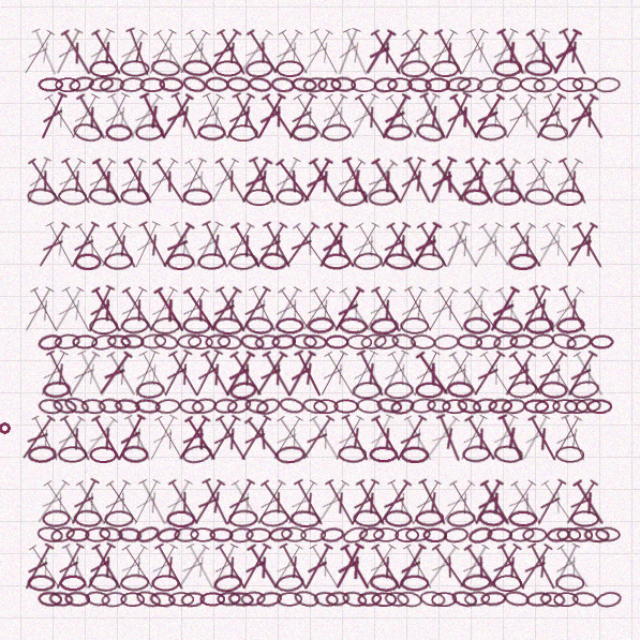chain: (397, 137, 427, 159), (180, 437, 210, 458), (78, 137, 107, 158), (542, 377, 571, 398), (325, 198, 355, 218), (209, 558, 238, 578), (267, 558, 296, 578), (69, 392, 96, 413), (224, 378, 252, 398), (151, 78, 180, 97), (93, 198, 122, 217), (470, 318, 499, 337), (484, 378, 513, 397), (93, 558, 122, 577), (136, 512, 162, 533), (329, 513, 356, 533), (136, 573, 163, 593), (239, 318, 267, 337), (529, 318, 557, 337), (471, 438, 499, 457), (253, 498, 281, 517), (355, 558, 383, 577), (354, 199, 383, 217), (209, 319, 238, 337), (339, 379, 368, 397), (267, 439, 296, 457), (281, 499, 310, 517), (248, 393, 274, 413), (446, 513, 472, 533), (253, 258, 280, 277), (456, 498, 483, 517), (239, 79, 267, 97), (384, 79, 412, 97), (224, 259, 252, 277), (369, 259, 397, 277), (398, 259, 426, 277), (152, 319, 180, 337), (326, 319, 354, 337), (355, 319, 383, 337), (369, 379, 397, 397), (427, 499, 455, 517), (74, 93, 100, 112), (153, 333, 179, 352), (524, 333, 550, 352), (221, 393, 247, 412), (270, 393, 296, 412), (284, 573, 310, 592), (431, 573, 457, 592), (442, 199, 469, 217), (311, 139, 339, 156), (456, 139, 484, 156), (36, 199, 64, 216), (123, 199, 151, 216), (181, 199, 209, 216), (500, 199, 528, 216), (340, 259, 368, 276), (123, 319, 151, 336), (500, 319, 528, 336), (50, 379, 78, 396), (137, 379, 165, 396), (36, 439, 64, 456), (79, 499, 107, 516), (224, 499, 252, 516), (180, 93, 205, 112), (375, 333, 400, 352), (436, 393, 461, 412), (57, 513, 82, 532), (455, 94, 481, 112), (95, 334, 121, 352), (538, 334, 564, 352), (292, 394, 318, 412), (249, 574, 275, 592), (380, 574, 406, 592), (566, 574, 592, 592), (181, 79, 208, 96), (471, 79, 498, 96), (500, 79, 527, 96), (137, 139, 164, 156), (195, 139, 222, 156), (282, 139, 309, 156), (369, 139, 396, 156), (514, 139, 541, 156), (65, 199, 92, 216), (268, 199, 295, 216), (471, 199, 498, 216), (108, 259, 135, 276), (181, 319, 208, 336), (297, 319, 324, 336), (427, 379, 454, 396), (514, 379, 541, 396), (326, 439, 353, 456), (442, 439, 469, 456), (50, 499, 77, 516), (340, 499, 367, 516), (369, 499, 396, 516), (398, 499, 425, 516), (123, 559, 150, 576), (442, 559, 469, 576), (529, 559, 556, 576), (241, 94, 266, 112), (45, 334, 70, 352), (234, 334, 259, 352), (470, 334, 495, 352), (59, 394, 84, 412), (238, 394, 263, 412), (374, 394, 399, 412), (156, 514, 181, 532), (329, 574, 354, 592), (123, 80, 151, 96), (224, 140, 252, 156), (108, 500, 136, 516), (473, 94, 499, 111), (109, 139, 135, 156), (443, 319, 469, 336), (361, 394, 387, 411), (124, 439, 150, 456), (480, 574, 506, 591), (94, 80, 121, 96), (210, 80, 237, 96), (268, 80, 295, 96), (413, 80, 440, 96), (239, 200, 266, 216), (529, 200, 556, 216), (166, 260, 193, 276), (195, 260, 222, 276), (311, 260, 338, 276), (485, 260, 512, 276), (94, 320, 121, 336), (268, 320, 295, 336), (384, 320, 411, 336), (398, 380, 425, 396), (65, 440, 92, 456), (94, 440, 121, 456), (355, 440, 382, 456), (384, 440, 411, 456), (529, 440, 556, 456), (166, 500, 193, 516), (485, 500, 512, 516), (543, 500, 570, 516), (36, 560, 63, 576), (152, 560, 179, 576), (384, 560, 411, 576), (471, 560, 498, 576), (93, 94, 118, 111), (426, 94, 451, 111), (61, 334, 86, 351), (347, 334, 372, 351), (359, 334, 384, 351), (504, 334, 529, 351), (189, 394, 214, 411), (393, 394, 418, 411), (451, 394, 476, 411), (45, 514, 70, 531), (102, 514, 127, 531), (345, 514, 370, 531), (485, 514, 510, 531), (402, 574, 427, 591), (80, 260, 106, 276), (66, 560, 92, 576), (261, 514, 285, 531), (90, 574, 114, 591), (103, 95, 128, 111), (122, 95, 147, 111), (282, 95, 307, 111), (437, 95, 462, 111), (495, 95, 520, 111), (508, 95, 533, 111), (544, 95, 569, 111), (565, 95, 590, 111), (248, 335, 273, 351), (393, 335, 418, 351), (415, 335, 440, 351), (454, 335, 479, 351), (117, 395, 142, 411), (136, 395, 161, 411), (155, 395, 180, 411), (177, 395, 202, 411), (509, 395, 534, 411), (424, 515, 449, 531), (555, 515, 580, 531), (105, 575, 130, 591), (150, 575, 175, 591), (223, 575, 248, 591), (501, 575, 526, 591), (514, 575, 539, 591), (544, 575, 569, 591), (263, 95, 287, 111), (293, 95, 317, 111), (359, 95, 383, 111), (390, 95, 414, 111), (110, 335, 134, 351), (213, 335, 237, 351), (293, 335, 317, 351), (46, 395, 70, 411), (86, 395, 110, 411), (478, 395, 502, 411), (120, 515, 144, 531), (224, 515, 248, 531), (309, 515, 333, 531), (520, 515, 544, 531), (56, 575, 80, 591), (179, 575, 203, 591), (303, 575, 327, 591), (369, 575, 393, 591), (343, 395, 368, 410), (547, 395, 572, 410), (319, 95, 343, 110), (142, 335, 166, 350), (202, 335, 226, 350), (283, 335, 307, 350), (437, 335, 461, 350), (102, 395, 126, 410), (90, 515, 114, 530), (173, 515, 197, 530), (273, 515, 297, 530), (389, 515, 413, 530), (540, 515, 564, 530), (566, 515, 590, 530), (71, 575, 95, 590), (235, 575, 259, 590), (314, 575, 338, 590), (444, 575, 468, 590), (459, 575, 483, 590), (159, 95, 182, 110), (202, 95, 225, 110), (222, 95, 245, 110), (123, 335, 146, 350), (176, 335, 199, 350), (264, 335, 287, 350), (486, 335, 509, 350), (210, 395, 233, 410), (409, 395, 432, 410), (466, 395, 489, 410), (46, 575, 69, 590), (213, 575, 236, 590), (344, 575, 367, 590), (46, 96, 70, 110), (62, 96, 86, 110), (141, 96, 165, 110), (338, 96, 362, 110), (372, 96, 396, 110), (407, 96, 431, 110), (531, 96, 555, 110), (78, 336, 102, 350), (186, 336, 210, 350), (334, 336, 358, 350), (303, 396, 327, 410), (322, 396, 346, 410), (423, 396, 447, 410), (499, 396, 523, 410), (526, 396, 550, 410), (558, 396, 582, 410), (188, 516, 212, 530), (240, 516, 264, 530), (291, 516, 315, 530), (359, 516, 383, 530), (465, 516, 489, 530), (498, 516, 522, 530), (168, 576, 192, 590), (197, 576, 221, 590), (269, 576, 293, 590), (357, 576, 381, 590), (413, 576, 437, 590), (527, 576, 551, 590), (307, 96, 330, 110), (314, 336, 337, 350), (561, 336, 584, 350), (537, 396, 560, 410), (72, 516, 95, 530), (206, 516, 229, 530), (379, 516, 402, 530), (405, 516, 428, 530), (530, 516, 553, 530), (123, 576, 146, 590)
double: (265, 169, 306, 216), (344, 170, 385, 216), (83, 410, 124, 456), (236, 410, 277, 456), (229, 49, 269, 96), (272, 229, 312, 276), (280, 229, 320, 276), (266, 289, 306, 336), (440, 289, 480, 336), (519, 289, 559, 336), (403, 409, 443, 456), (251, 469, 291, 516), (417, 469, 457, 516), (403, 529, 443, 576), (367, 109, 406, 157), (150, 169, 189, 217), (454, 229, 493, 277), (179, 289, 218, 337), (324, 289, 363, 337), (222, 349, 261, 397), (55, 409, 94, 457), (287, 409, 326, 457), (48, 469, 87, 517), (301, 469, 340, 517), (359, 469, 398, 517), (533, 469, 572, 517), (34, 529, 73, 577), (121, 529, 160, 577), (171, 529, 210, 577), (200, 49, 239, 96), (374, 49, 413, 96), (127, 109, 166, 156), (483, 109, 522, 156), (34, 169, 73, 216), (316, 169, 355, 216), (432, 169, 471, 216), (461, 169, 500, 216), (287, 289, 326, 336), (98, 349, 137, 396), (396, 349, 435, 396), (483, 349, 522, 396), (504, 349, 543, 396), (26, 409, 65, 456), (266, 409, 305, 456), (40, 469, 79, 516), (475, 469, 514, 516), (411, 529, 450, 576), (461, 529, 500, 576), (527, 529, 566, 576), (27, 49, 65, 97), (114, 49, 152, 97), (151, 49, 189, 97), (172, 49, 210, 97), (259, 49, 297, 97), (49, 109, 87, 157), (281, 109, 319, 157), (310, 109, 348, 157), (339, 109, 377, 157), (447, 109, 485, 157), (476, 109, 514, 157), (534, 109, 572, 157), (180, 169, 218, 217), (230, 169, 268, 217), (470, 169, 508, 217), (499, 169, 537, 217), (41, 229, 79, 277), (157, 229, 195, 277), (244, 229, 282, 277), (310, 229, 348, 277), (368, 229, 406, 277), (484, 229, 522, 277), (513, 229, 551, 277), (534, 229, 572, 277), (122, 289, 160, 337), (151, 289, 189, 337), (201, 289, 239, 337), (412, 289, 450, 337), (70, 349, 108, 397), (244, 349, 282, 397), (447, 349, 485, 397), (455, 349, 493, 397), (476, 349, 514, 397), (513, 349, 551, 397), (542, 349, 580, 397), (172, 409, 210, 457), (180, 409, 218, 457), (259, 409, 297, 457), (296, 409, 334, 457), (441, 409, 479, 457), (78, 469, 116, 517), (186, 469, 224, 517), (223, 469, 261, 517), (484, 469, 522, 517), (542, 469, 580, 517), (114, 529, 152, 577), (238, 529, 276, 577), (259, 529, 297, 577), (433, 529, 471, 577), (491, 529, 529, 577), (411, 170, 450, 216), (383, 49, 421, 96), (499, 49, 537, 96), (252, 109, 290, 156), (78, 229, 116, 276), (476, 229, 514, 276), (107, 469, 145, 516), (513, 469, 551, 516), (441, 529, 479, 576), (93, 49, 130, 97), (267, 49, 304, 97), (288, 49, 325, 97), (346, 49, 383, 97), (354, 49, 391, 97), (186, 109, 223, 157), (455, 109, 492, 157), (505, 109, 542, 157), (288, 169, 325, 217), (296, 169, 333, 217), (354, 169, 391, 217), (99, 229, 136, 277), (215, 229, 252, 277), (223, 229, 260, 277), (339, 229, 376, 277), (360, 229, 397, 277), (397, 229, 434, 277), (447, 229, 484, 277), (505, 229, 542, 277), (542, 229, 579, 277), (56, 289, 93, 337), (93, 289, 130, 337), (143, 289, 180, 337), (172, 289, 209, 337), (209, 289, 246, 337), (230, 289, 267, 337), (259, 289, 296, 337), (296, 289, 333, 337), (317, 289, 354, 337), (354, 289, 391, 337), (404, 289, 441, 337), (462, 289, 499, 337), (470, 289, 507, 337), (107, 349, 144, 397), (165, 349, 202, 397), (215, 349, 252, 397), (310, 349, 347, 397), (426, 349, 463, 397), (534, 349, 571, 397), (64, 409, 101, 457), (93, 409, 130, 457), (201, 409, 238, 457), (209, 409, 246, 457), (230, 409, 267, 457), (317, 409, 354, 457), (354, 409, 391, 457), (375, 409, 412, 457), (273, 469, 310, 517), (93, 529, 130, 577), (209, 529, 246, 577), (325, 529, 362, 577), (354, 529, 391, 577), (383, 529, 420, 577), (434, 48, 470, 97), (442, 48, 478, 97), (137, 228, 173, 277), (187, 228, 223, 277), (384, 288, 420, 337), (42, 348, 78, 397), (303, 348, 339, 397), (144, 408, 180, 457), (492, 408, 528, 457), (71, 468, 107, 517), (86, 528, 122, 577), (181, 528, 217, 577), (268, 528, 304, 577), (318, 528, 354, 577), (238, 49, 275, 96), (157, 109, 194, 156), (56, 169, 93, 216), (85, 169, 122, 216), (143, 169, 180, 216), (209, 169, 246, 216), (346, 289, 383, 336), (418, 349, 455, 396), (165, 469, 202, 516), (296, 529, 333, 576), (346, 529, 383, 576), (65, 49, 101, 97), (181, 49, 217, 97), (210, 49, 246, 97), (405, 49, 441, 97), (521, 49, 557, 97), (71, 109, 107, 157), (79, 109, 115, 157), (216, 109, 252, 157), (245, 109, 281, 157), (274, 109, 310, 157), (332, 109, 368, 157), (361, 109, 397, 157), (427, 109, 463, 157), (543, 109, 579, 157), (65, 169, 101, 217), (94, 169, 130, 217), (115, 169, 151, 217), (123, 169, 159, 217), (492, 169, 528, 217), (521, 169, 557, 217), (71, 229, 107, 277), (108, 229, 144, 277), (332, 229, 368, 277), (390, 229, 426, 277), (427, 229, 463, 277), (28, 289, 64, 337), (65, 289, 101, 337), (115, 289, 151, 337), (376, 289, 412, 337), (434, 289, 470, 337), (137, 349, 173, 397), (195, 349, 231, 397), (369, 349, 405, 397), (152, 409, 188, 457), (384, 409, 420, 457), (500, 409, 536, 457), (521, 409, 557, 457), (100, 469, 136, 517), (158, 469, 194, 517), (216, 469, 252, 517), (245, 469, 281, 517), (282, 469, 318, 517), (311, 469, 347, 517), (332, 469, 368, 517), (340, 469, 376, 517), (390, 469, 426, 517), (427, 469, 463, 517), (448, 469, 484, 517), (456, 469, 492, 517), (506, 469, 542, 517), (28, 529, 64, 577), (57, 529, 93, 577), (144, 529, 180, 577), (152, 529, 188, 577), (231, 529, 267, 577), (376, 529, 412, 577), (57, 48, 92, 97), (297, 48, 332, 97), (463, 48, 498, 97), (471, 48, 506, 97), (529, 48, 564, 97), (108, 108, 143, 157), (224, 108, 259, 157), (390, 108, 425, 157), (260, 168, 295, 217), (384, 168, 419, 217), (50, 228, 85, 277), (166, 228, 201, 277), (253, 228, 288, 277), (239, 288, 274, 337), (492, 288, 527, 337), (529, 288, 564, 337), (158, 348, 193, 397), (187, 348, 222, 397), (282, 348, 317, 397), (332, 348, 367, 397), (340, 348, 375, 397), (390, 348, 425, 397), (115, 408, 150, 457), (123, 408, 158, 457), (326, 408, 361, 457), (434, 408, 469, 457), (463, 408, 498, 457), (137, 468, 172, 517), (398, 468, 433, 517), (65, 528, 100, 577), (500, 528, 535, 577), (521, 528, 556, 577), (144, 49, 179, 97), (413, 49, 448, 97), (303, 109, 338, 157), (202, 169, 237, 217), (442, 169, 477, 217), (529, 169, 564, 217), (303, 229, 338, 277), (36, 289, 71, 337), (253, 349, 288, 397), (274, 349, 309, 397), (369, 469, 404, 517), (289, 529, 324, 577), (87, 48, 121, 97), (493, 48, 527, 97), (43, 108, 77, 157), (101, 108, 135, 157), (138, 108, 172, 157), (167, 108, 201, 157), (196, 108, 230, 157), (399, 108, 433, 157), (420, 108, 454, 157), (240, 168, 274, 217), (327, 168, 361, 217), (406, 168, 440, 217), (130, 228, 164, 277), (196, 228, 230, 277), (87, 288, 121, 337), (501, 288, 535, 337), (80, 348, 114, 397), (362, 348, 396, 397), (348, 408, 382, 457), (196, 468, 230, 517), (377, 169, 411, 217), (51, 349, 85, 397), (37, 409, 71, 457), (130, 469, 164, 517), (472, 529, 506, 577), (37, 48, 70, 97), (327, 48, 360, 97), (130, 348, 163, 397), (472, 408, 505, 457), (515, 109, 548, 157), (174, 169, 207, 217), (203, 529, 236, 577), (30, 168, 62, 217), (421, 228, 453, 277), (531, 408, 563, 457), (125, 48, 156, 97), (320, 48, 351, 97), (415, 408, 446, 457)
noise: (614, 113, 640, 142), (9, 417, 22, 430)
